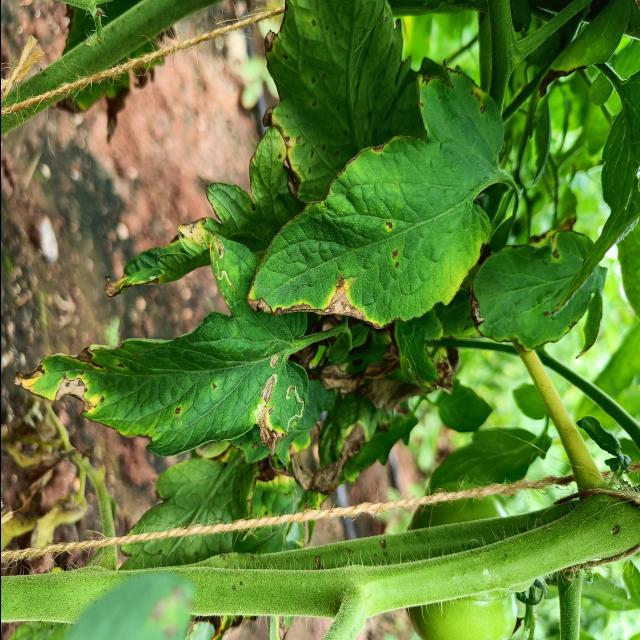Tomato mosaic virus leaf: (7, 326, 278, 464), (242, 130, 424, 332), (257, 0, 403, 201), (463, 222, 592, 356), (409, 52, 509, 160), (102, 212, 208, 300)
